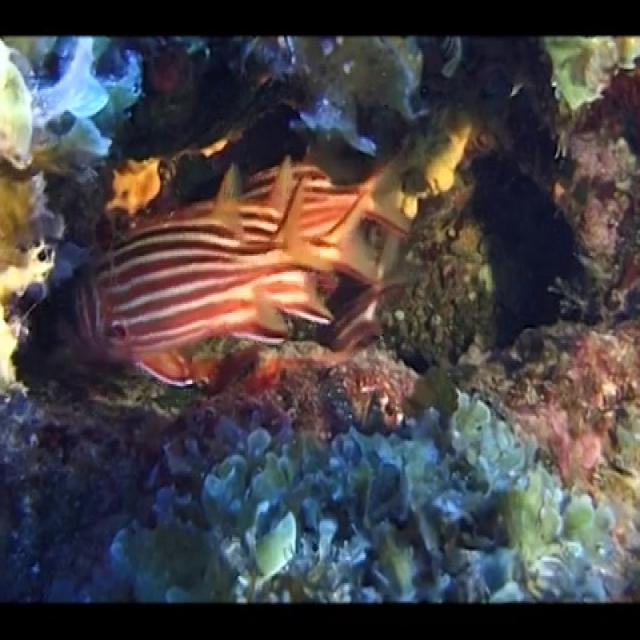Asker Baligi: (0, 34, 639, 602), (72, 150, 416, 390)
